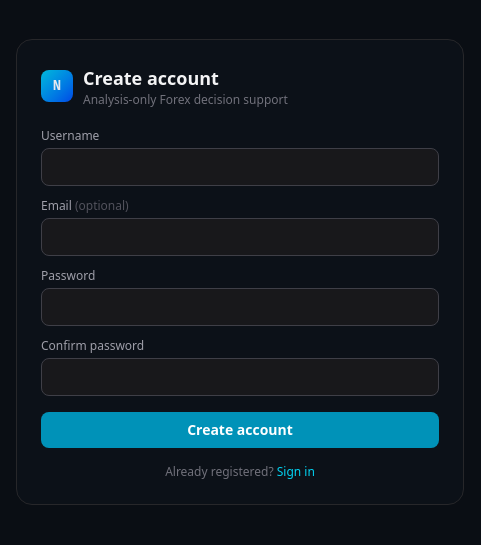
Test: RegisterPage › blocks submission when passwords do not match
The image size is (481, 545).
Type "u1" into the field with test id "register-username" at (240, 167), box [41,148,439,186]
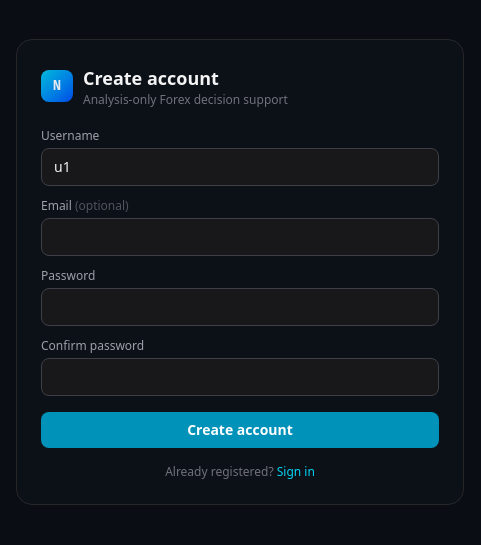
Type "Str0ng-Pass!" into the password field with test id "register-password" at (240, 307), box [41,288,439,326]
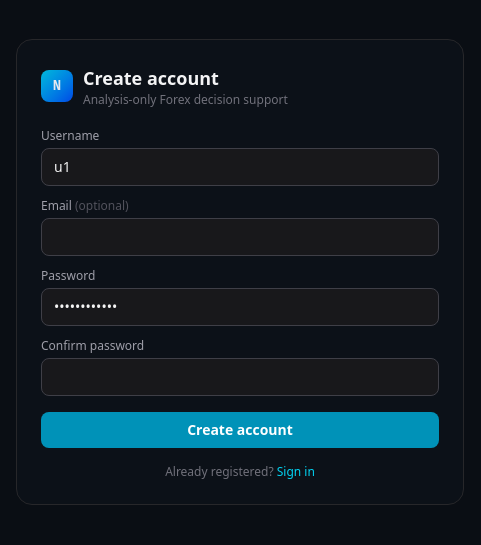
Type "different" into the password field with test id "register-confirm" at (240, 377), box [41,358,439,396]
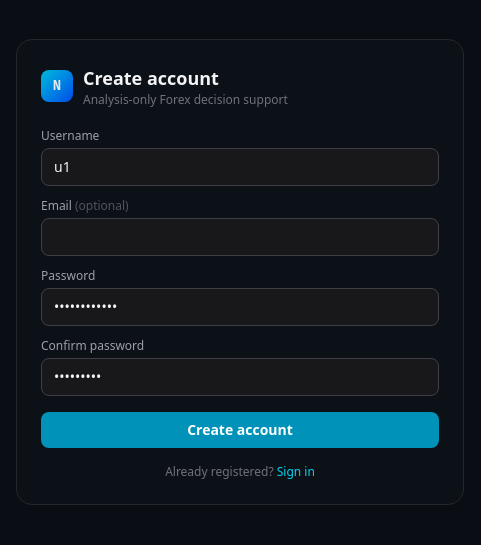
Click the button with test id "register-submit" at (240, 430), box [41,412,439,448]
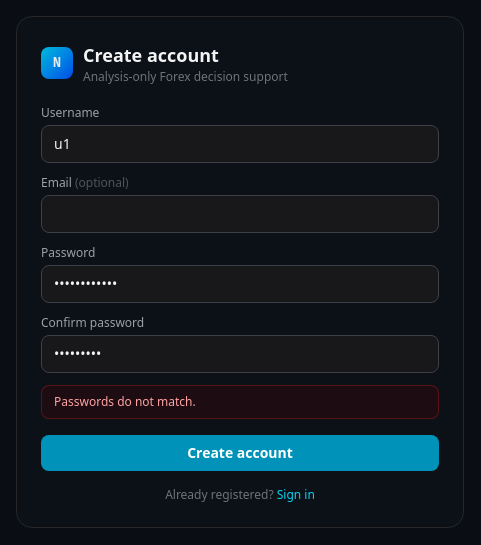
expect the message with test id "register-error" shows "Passwords do not match": met, box [54,393,196,410]
